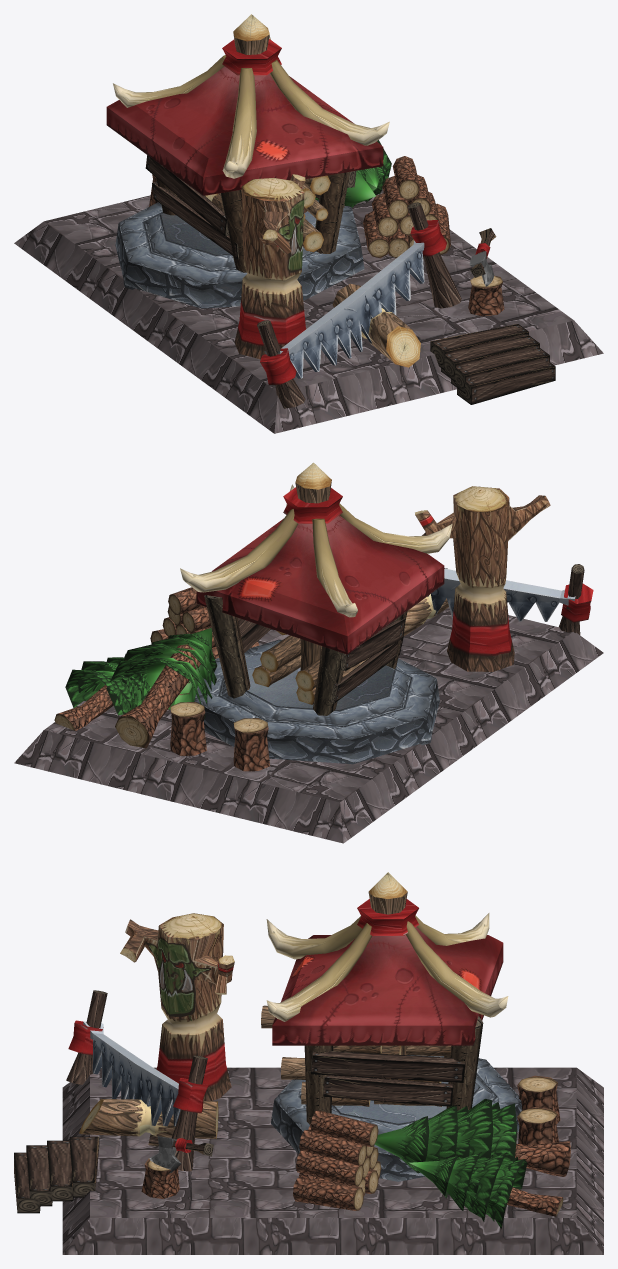
Rendered from Orc_Sawmill.FBX.
3 views of the same model, one above another, from view 1: azimuth 30°, elevation 25°; view 2: azimuth 150°, elevation 25°; view 3: azimuth 270°, elevation 25° (orthographic). The views are drawn at different scales.
Visible parts, largest first — view 1: floor, awning001, foundation, totem, stairs001, saw, fangs, trunks, wood_table, wood_column, saw_handle, Trunk_big (+7 smaller); view 2: floor, awning001, foundation, totem, pine001, fangs, wood_column, wood_table, trunks_inside, saw, trunks, trnk_big007 (+6 smaller); view 3: floor, awning001, pine001, totem, fangs, trunks, wood_table, foundation, stairs001, saw, Trunk_big, wood_column (+10 smaller).
Part boxes in pixels (bbox=[...]): floor: bbox=[14, 188, 603, 433]; awning001: bbox=[106, 66, 383, 195]; foundation: bbox=[115, 200, 364, 308]; totem: bbox=[234, 174, 307, 359]; stairs001: bbox=[430, 324, 555, 404]; saw: bbox=[264, 241, 424, 378]; fangs: bbox=[113, 36, 389, 178]; trunks: bbox=[363, 156, 450, 258]; wood_table: bbox=[145, 155, 356, 259]; wood_column: bbox=[156, 172, 350, 272]; saw_handle: bbox=[257, 202, 461, 408]; Trunk_big: bbox=[332, 283, 420, 367]; floor: bbox=[14, 607, 603, 843]; awning001: bbox=[196, 515, 444, 654]; foundation: bbox=[194, 639, 439, 764]; totem: bbox=[415, 486, 550, 671]; pine001: bbox=[54, 627, 217, 748]; fangs: bbox=[180, 484, 452, 617]; wood_column: bbox=[204, 595, 407, 715]; wood_table: bbox=[211, 617, 405, 703]; trunks_inside: bbox=[252, 630, 369, 704]; saw: bbox=[427, 568, 575, 621]; trunks: bbox=[150, 587, 259, 658]; trnk_big007: bbox=[170, 702, 206, 755]; floor: bbox=[62, 1067, 603, 1254]; awning001: bbox=[272, 927, 503, 1045]; pine001: bbox=[374, 1099, 570, 1229]; totem: bbox=[120, 913, 234, 1100]; fangs: bbox=[266, 913, 508, 1021]; trunks: bbox=[293, 1110, 381, 1210]; wood_table: bbox=[310, 1051, 465, 1106]; foundation: bbox=[271, 1055, 522, 1181]; stairs001: bbox=[14, 1136, 99, 1213]; saw: bbox=[83, 1021, 180, 1126]; Trunk_big: bbox=[79, 1099, 218, 1138]; wood_column: bbox=[304, 1016, 483, 1124].
Bounding box in the file's own units: 4156 × 6181 × 3287.
